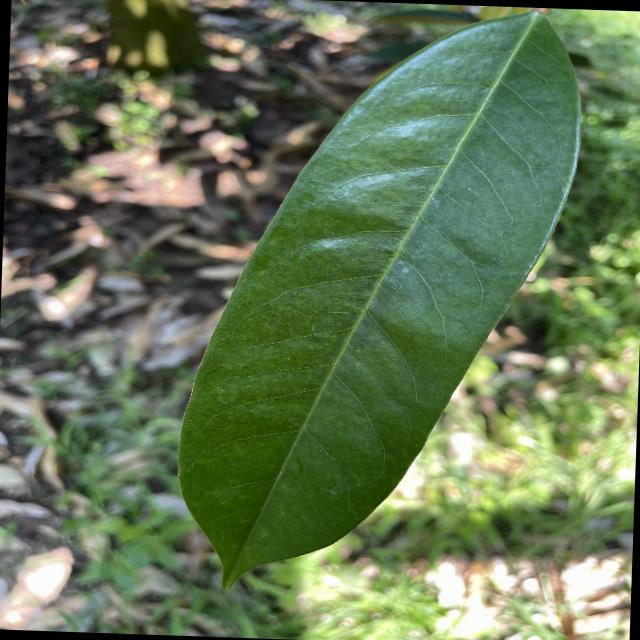No Disease: (161, 0, 595, 610)
